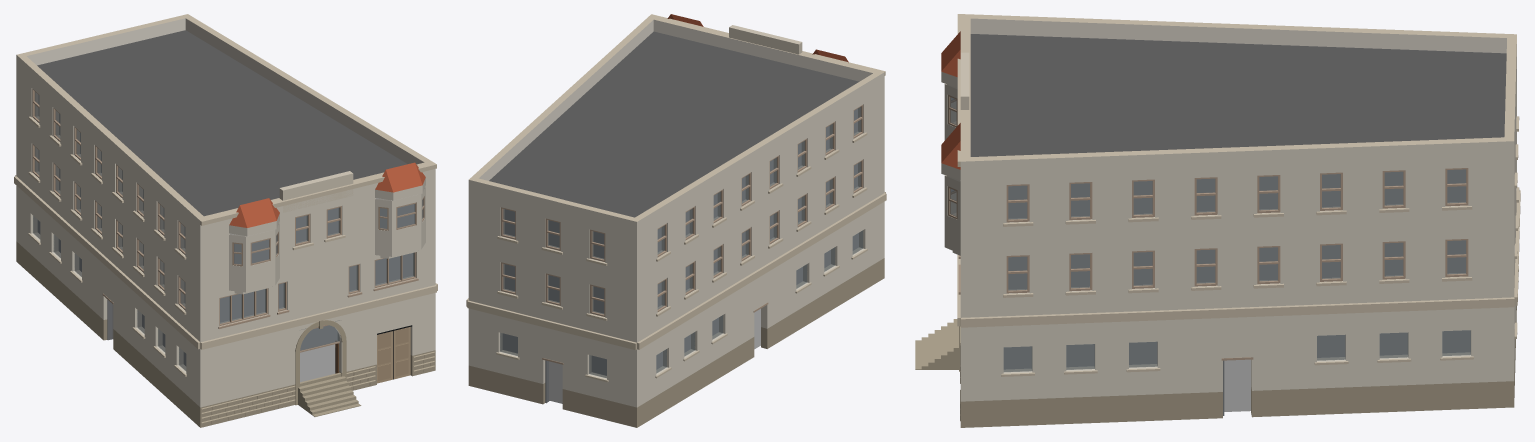
Rendered from exterior.glb.
The picture shows the model from 3 angles, left to right: view 1: azimuth 30°, elevation 25°; view 2: azimuth 150°, elevation 25°; view 3: azimuth 270°, elevation 25°; orthographic projection. The views are drawn at different scales.
Visible parts, largest first — view 1: shell, roof, glazing, trim, shadow-proxy, bay-windows, frames, hyC-arches-3, relief-3, storefront, bay-windows-crown, bay-glazing (+1 smaller); view 2: shell, roof, glazing, trim, shadow-proxy, frames, relief-3; view 3: shell, roof, glazing, shadow-proxy, trim, frames, bay-windows, hyC-arches-3, bay-windows-crown, relief-3, bay-glazing.
Boxes of the visible parts, x1,y1,x2,y2 form: shell: (16,14,435,427); roof: (37,30,407,216); glazing: (33,92,414,372); trim: (14,116,437,376); shadow-proxy: (38,114,414,382); bay-windows: (229,177,425,292); frames: (32,89,416,326); hyC-arches-3: (295,320,361,416); relief-3: (200,163,436,225); storefront: (102,293,412,383); bay-windows-crown: (229,162,425,294); bay-glazing: (232,196,424,266); shell: (468,15,884,427); roof: (489,31,858,217); glazing: (500,107,862,378); trim: (466,132,886,382); shadow-proxy: (503,109,858,403); frames: (501,105,863,316); relief-3: (650,14,885,75); shell: (960,14,1516,427); roof: (970,34,1506,156); glazing: (1003,169,1470,372); shadow-proxy: (1004,169,1470,411); trim: (957,116,1520,376); frames: (1006,168,1468,293); bay-windows: (941,72,960,253); hyC-arches-3: (915,319,960,371); bay-windows-crown: (941,31,960,255); relief-3: (957,14,969,166); bay-glazing: (948,94,957,219).
Bounding box in the file's own units: 12.28 × 10.62 × 20.84.
